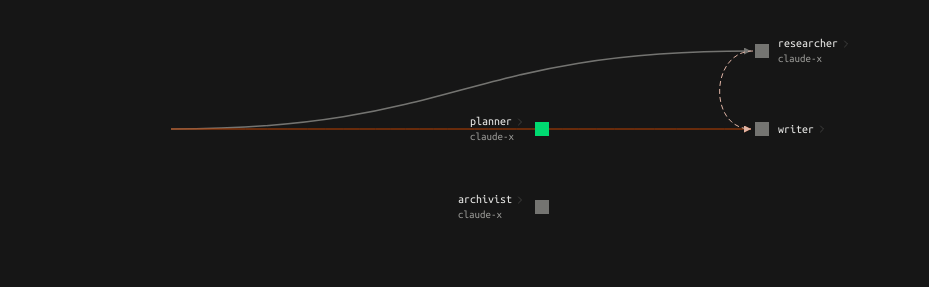
GraphField links › keeps the keyboard link in focus while the pointer rests on an agent
Press End in the picture named "Four agents and three links."
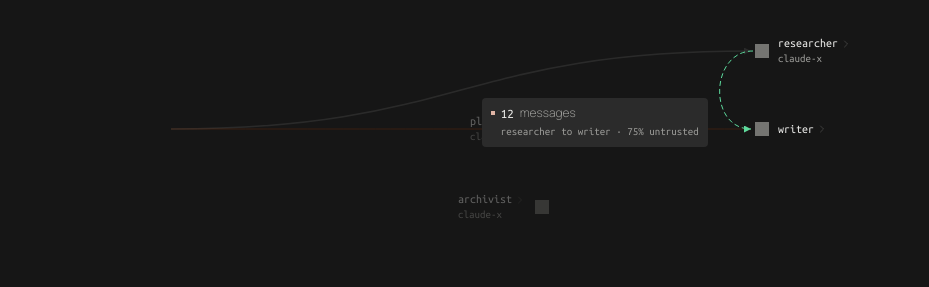
Hover over the link "archivist claude-x" at (504, 207), box [458,190,549,224]
Check: the element showing "12 messages researcher to writer · 75% untrusted" is shown, box [482,98,708,147]
Leave the picture named "Four agents and three links."
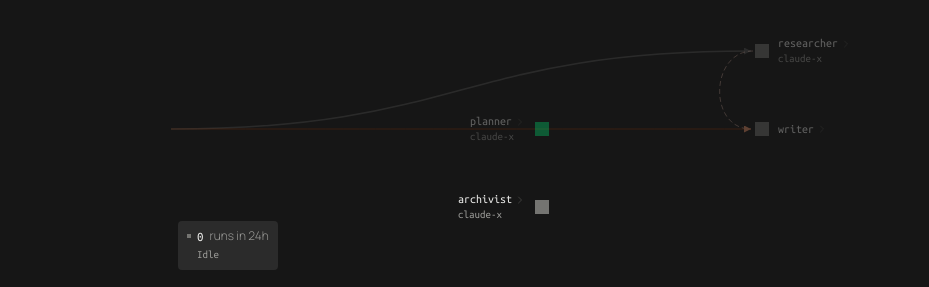
Check: the element showing "0 runs in 24h Idle" is shown, box [178,221,278,270]
